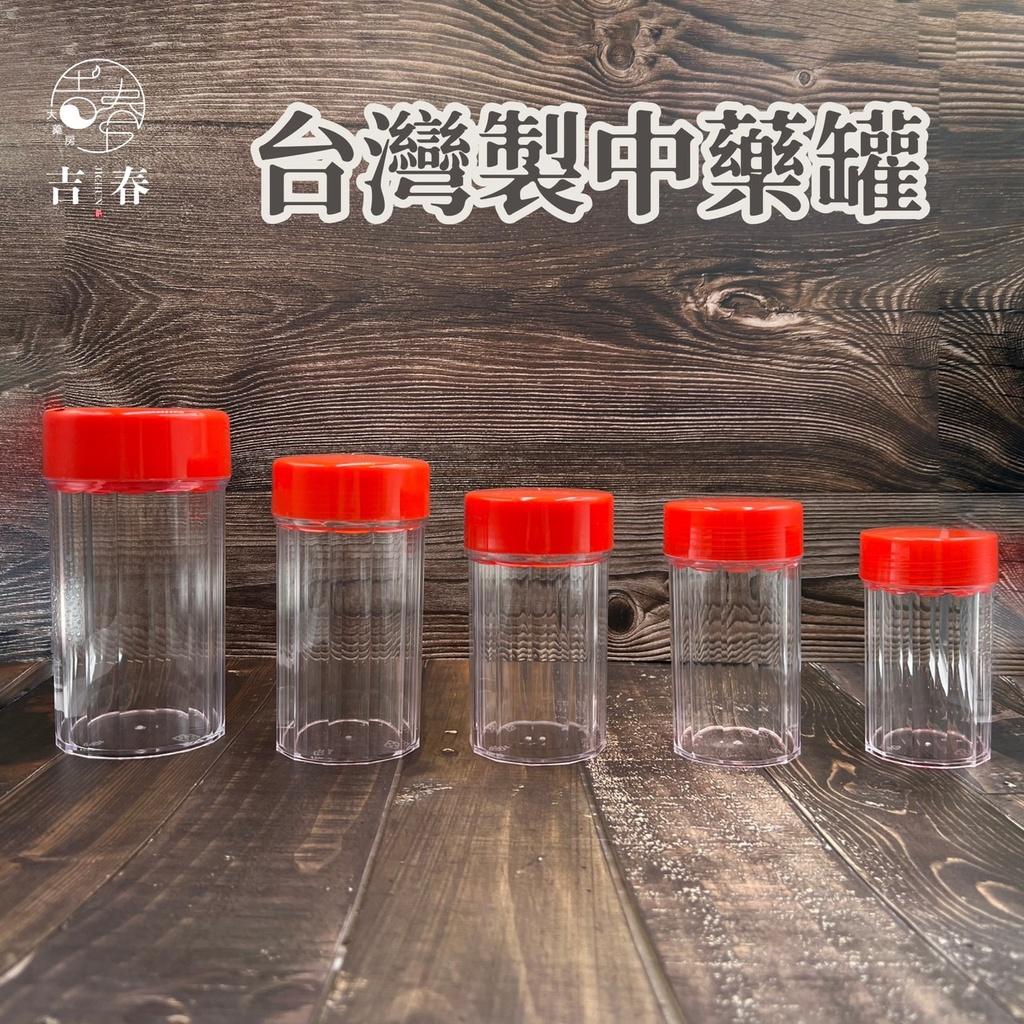medicinejar: (29, 384, 245, 762), (268, 451, 431, 778), (457, 483, 618, 771), (657, 493, 814, 776), (853, 523, 997, 773)
